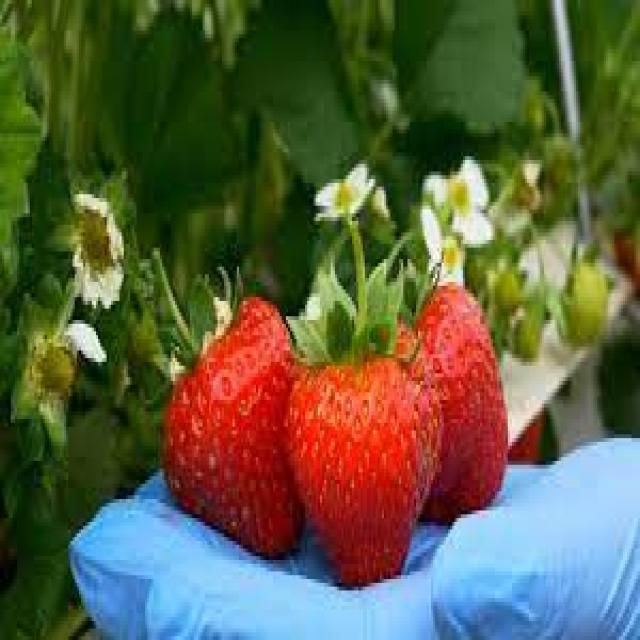Strawberry: (151, 248, 303, 556), (288, 335, 443, 585), (407, 274, 508, 522)
